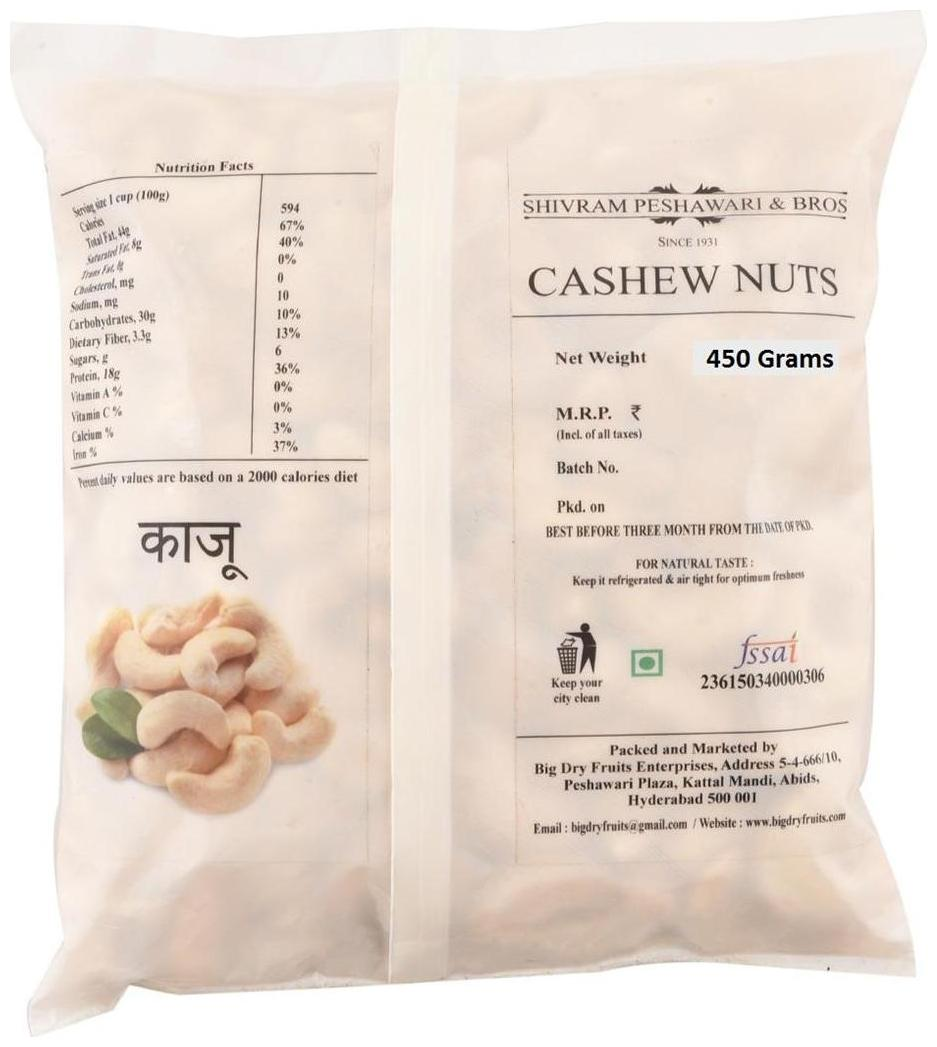fsaai: (731, 632, 800, 669)
